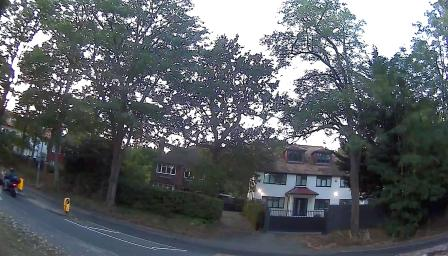Cars: (3, 166, 21, 197)
